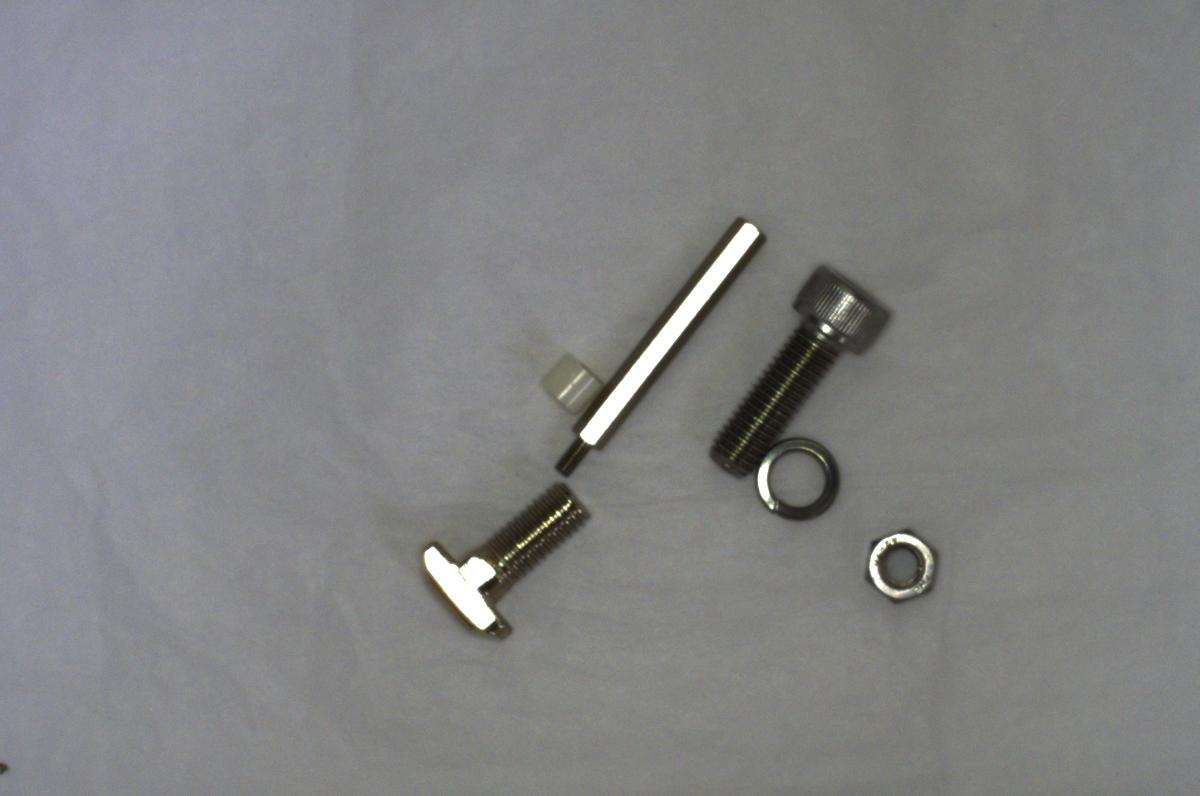Hexagon nut: (853, 520, 947, 609)
Hexagon screw: (708, 265, 899, 474)
Hexagonal steel column: (542, 206, 767, 480)
Plastic cushion pillar: (527, 348, 602, 414)
Spring washer: (746, 435, 845, 526)
T-shaped screw: (421, 482, 592, 646)
